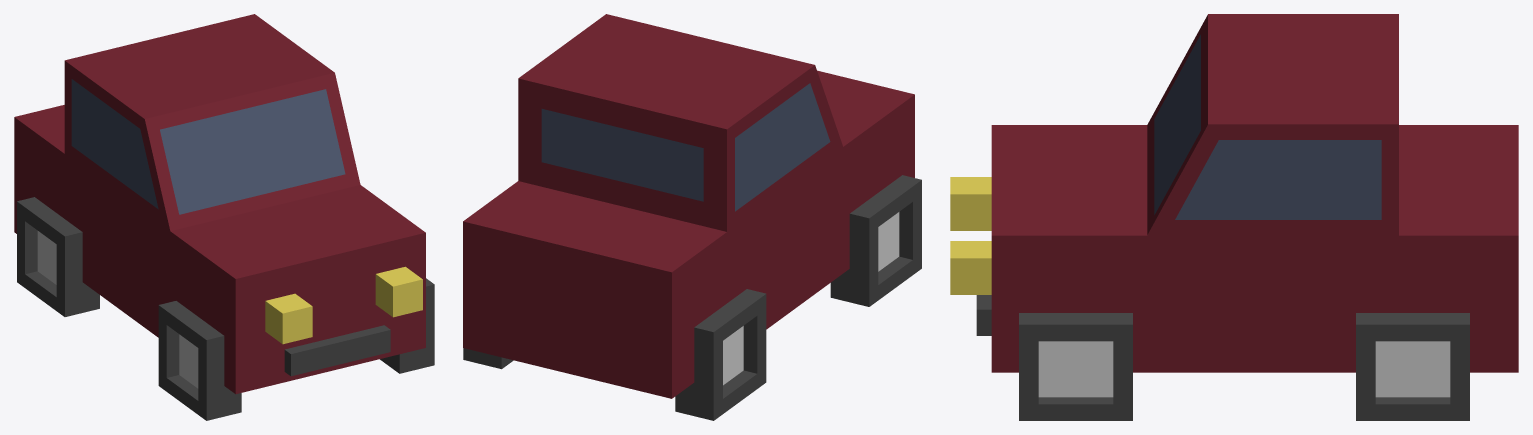
Rendered from car.fbx.
3 views of the same model, side by side, from view 1: azimuth 30°, elevation 25°; view 2: azimuth 150°, elevation 25°; view 3: azimuth 270°, elevation 25° (orthographic). The views are drawn at different scales.
Parts seen in each view (by area): view 1: Cube125; view 2: Cube125; view 3: Cube125.
Boxes of the visible parts, <box> form: Cube125: <box>14,14,434,420</box>; Cube125: <box>463,14,921,420</box>; Cube125: <box>950,14,1518,420</box>.
Size of the model in its own units: 810 by 812 by 1468.
